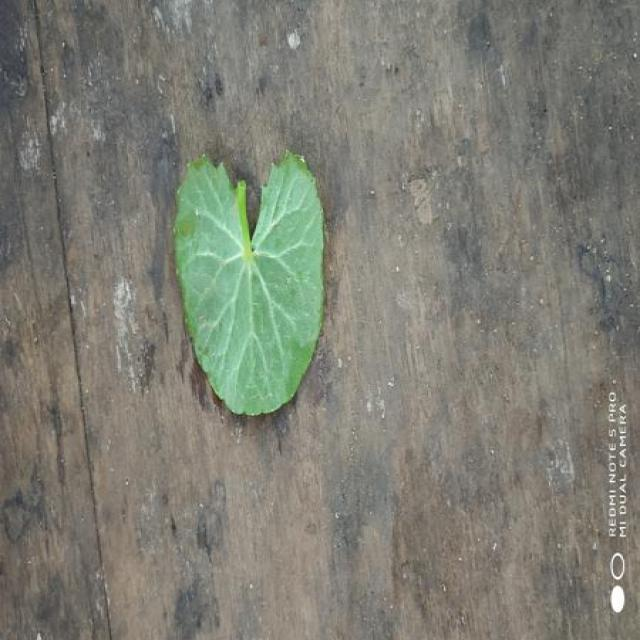bhrami: (175, 152, 323, 414)
